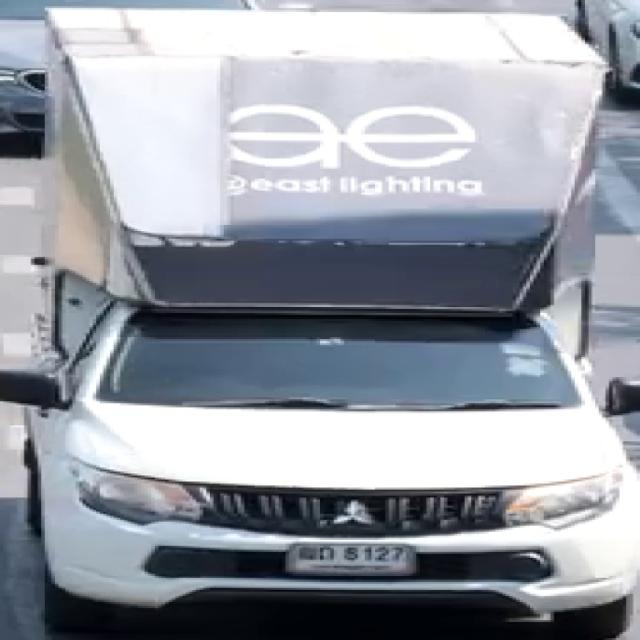plate: (283, 538, 418, 578)
